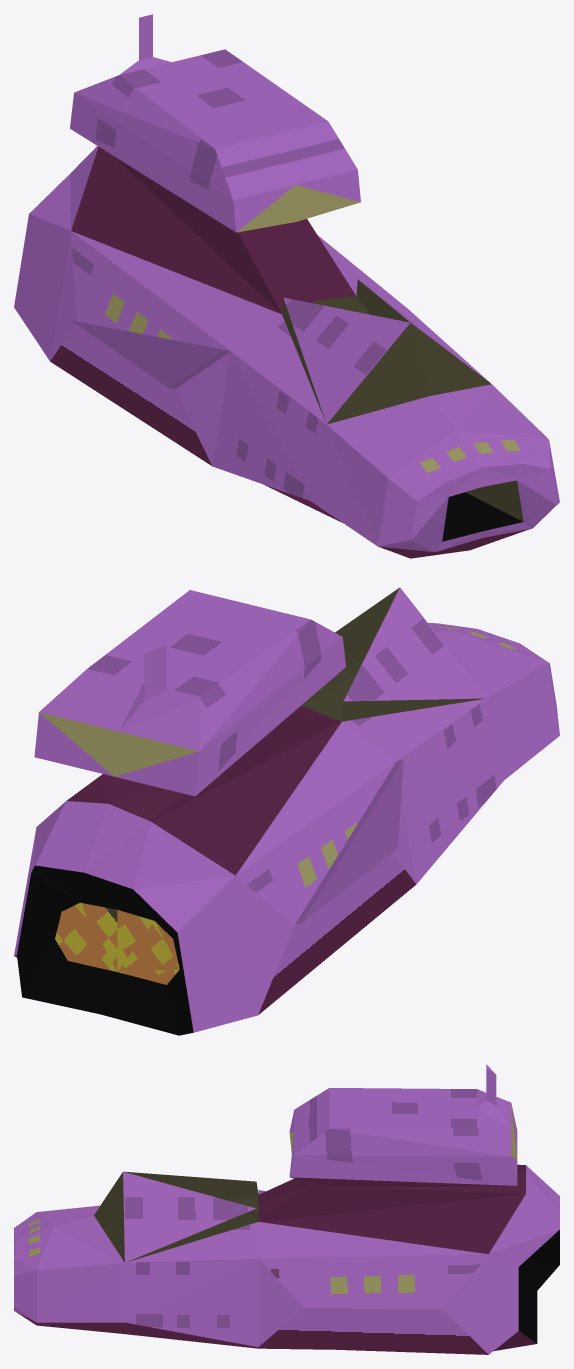
Rendered from gamilon_small.glb.
3 views of the same model, one above another, from view 1: azimuth 30°, elevation 25°; view 2: azimuth 150°, elevation 25°; view 3: azimuth 270°, elevation 25° (orthographic). The views are drawn at different scales.
Parts seen in each view (by area): view 1: GamilonSmall; view 2: GamilonSmall; view 3: GamilonSmall.
Boxes of the visible parts, box(x1,y1,x2,y2) form: GamilonSmall: box(14, 14, 559, 558); GamilonSmall: box(14, 587, 559, 1035); GamilonSmall: box(14, 1064, 559, 1354).
Size of the model in its own units: 1.7 by 2.34 by 4.49.
Materials: 1 (1 with a texture image).
